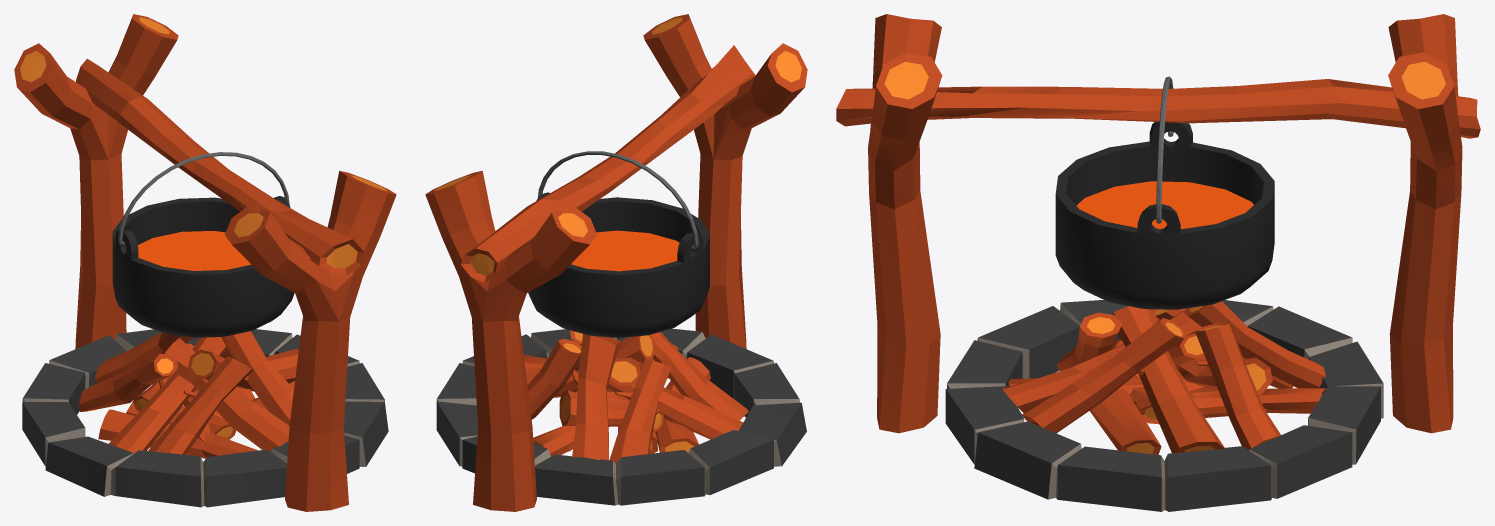
File: winter_castle_item16.glb
3 renders of one model, left to right at view 1: azimuth 30°, elevation 25°; view 2: azimuth 150°, elevation 25°; view 3: azimuth 270°, elevation 25°, orthographic. The views are drawn at different scales.
Visible parts, largest first — view 1: Item16_Medieval_0; view 2: Item16_Medieval_0; view 3: Item16_Medieval_0.
Part boxes in pixels (x1,y1,x2,y2): Item16_Medieval_0: (14, 14, 396, 511); Item16_Medieval_0: (425, 14, 807, 511); Item16_Medieval_0: (836, 14, 1480, 511).
Bounding box in the file's own units: 0.6157 × 0.5972 × 0.8978.
Materials: 1 (1 with a texture image).
